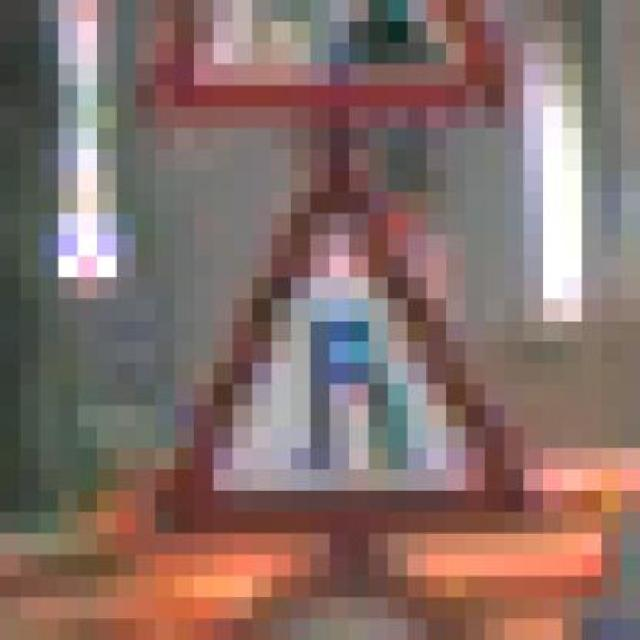-Road narrows on right: (155, 128, 543, 534)
